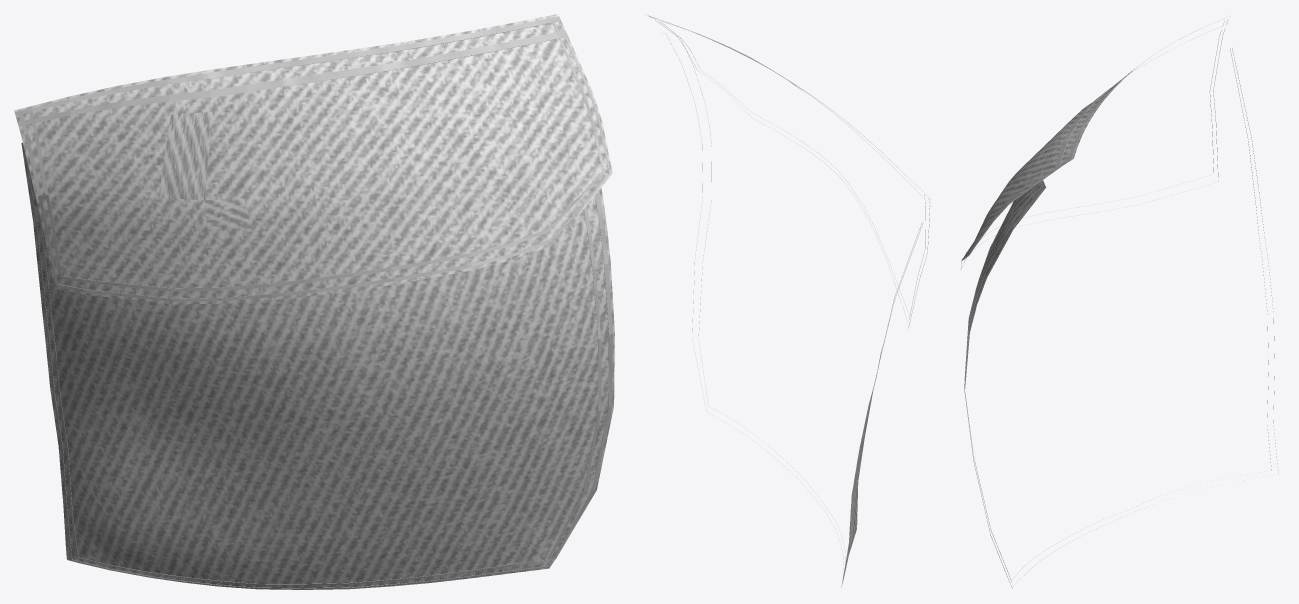
Rendered from Pocket_Right_V1.glb.
3 renders of one model, left to right at view 1: azimuth 30°, elevation 25°; view 2: azimuth 150°, elevation 25°; view 3: azimuth 270°, elevation 25°, orthographic. The views are drawn at different scales.
Parts seen in each view (by area): view 1: Pocket_Right_V11, Rope1; view 2: Rope1, Pocket_Right_V11; view 3: Pocket_Right_V11, Rope1.
Boxes of the visible parts, box(x1,y1,x2,y2) form: Pocket_Right_V11: box(14, 14, 614, 589); Rope1: box(14, 16, 612, 589); Rope1: box(645, 14, 931, 587); Pocket_Right_V11: box(678, 26, 882, 582); Pocket_Right_V11: box(961, 69, 1134, 388); Rope1: box(960, 15, 1278, 588).
Bounding box in the file's own units: 0.1996 × 0.23 × 0.1432.
Materials: 2 (2 with a texture image).
